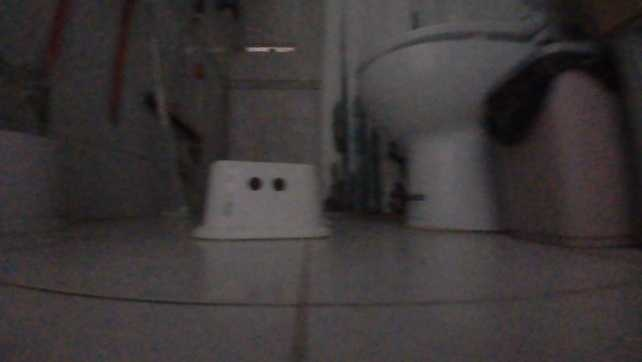toilet: (352, 5, 550, 236)
trash_can: (486, 41, 637, 250)
